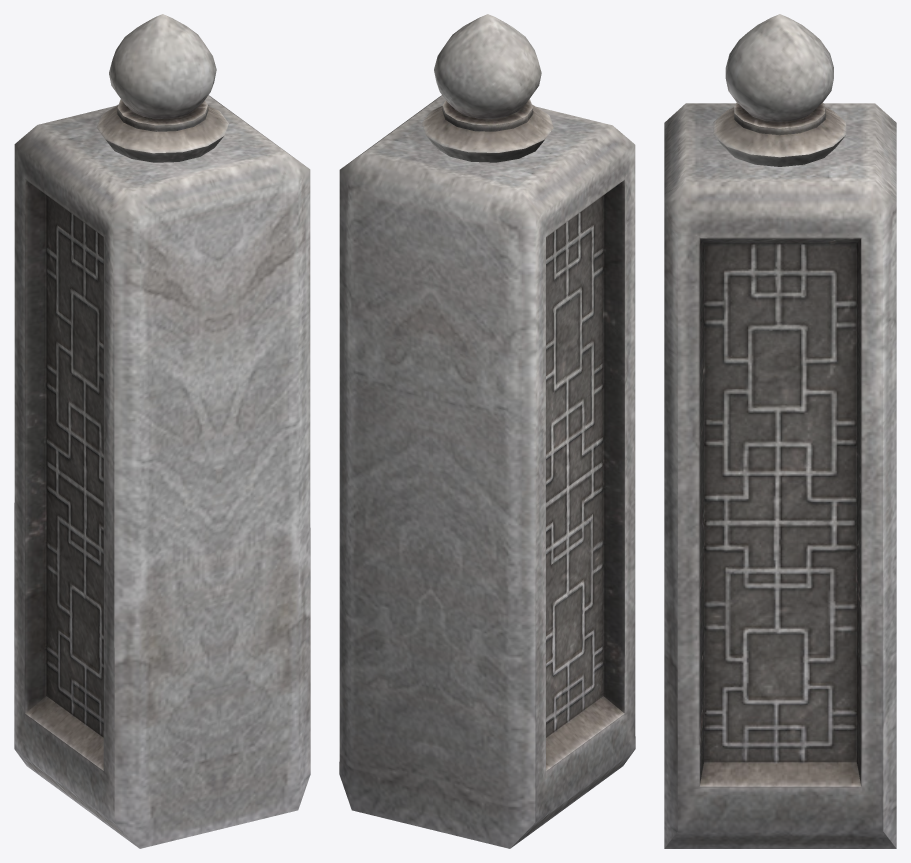
Rendered from SM_Fence_Column.glb.
The picture shows the model from 3 angles, left to right: view 1: azimuth 30°, elevation 25°; view 2: azimuth 150°, elevation 25°; view 3: azimuth 270°, elevation 25°; orthographic projection. The views are drawn at different scales.
Visible parts, largest first — view 1: SM_Fence_Column_LOD0; view 2: SM_Fence_Column_LOD0; view 3: SM_Fence_Column_LOD0.
Part boxes in pixels (x1,y1,x2,y2): SM_Fence_Column_LOD0: (14, 14, 310, 848); SM_Fence_Column_LOD0: (339, 14, 635, 848); SM_Fence_Column_LOD0: (664, 14, 896, 848).
Size of the model in its own units: 0.1581 by 0.5968 by 0.1581.
1 material, 1 textured.
